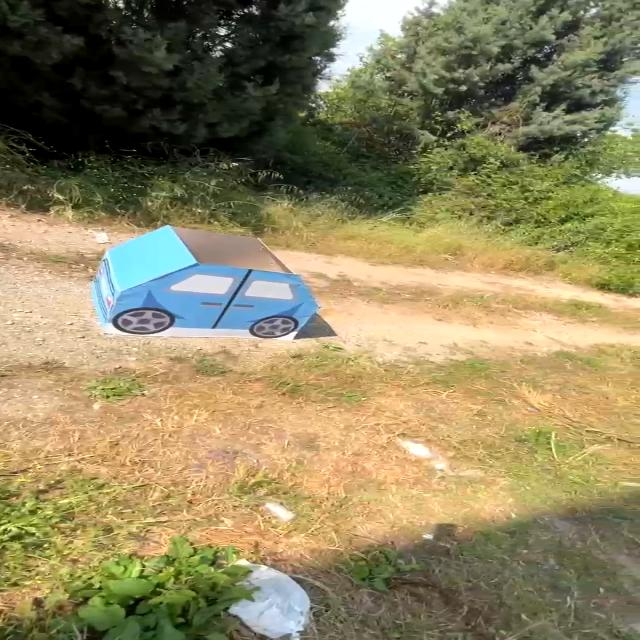blue_car: (56, 211, 327, 360)
